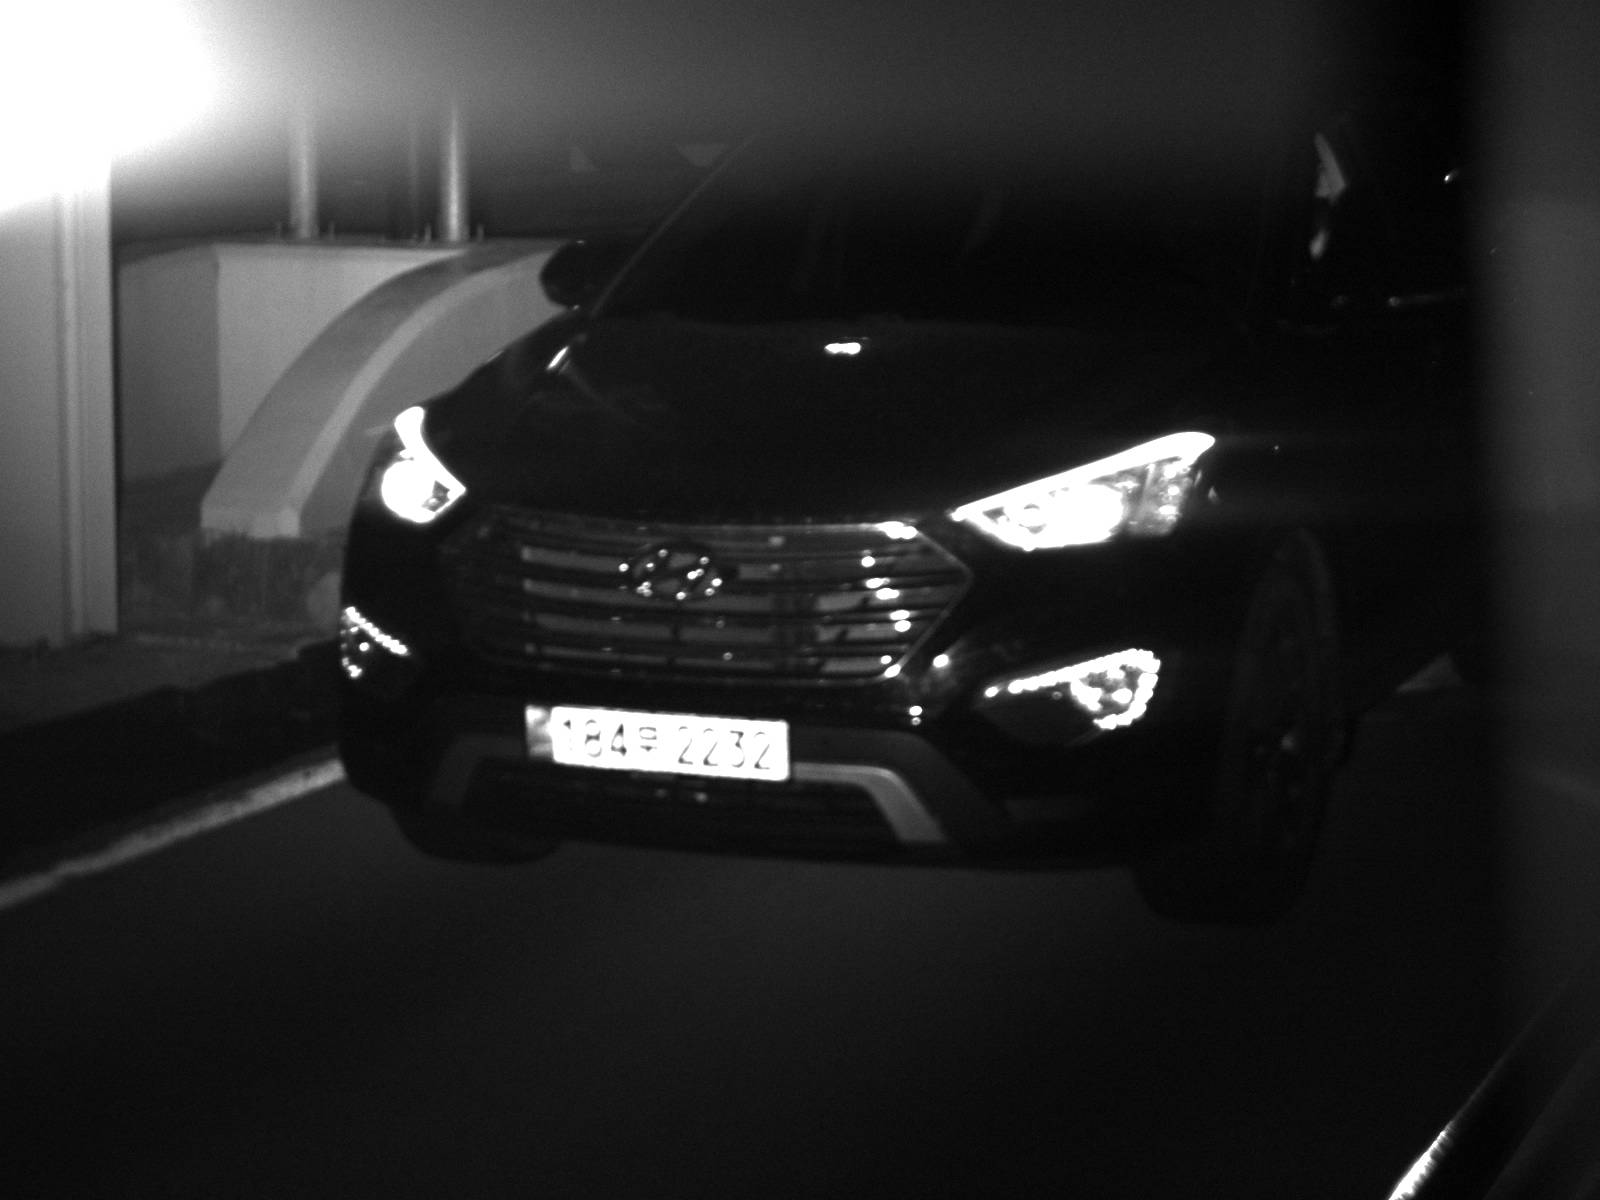car: (327, 108, 1509, 933)
plate: (522, 700, 794, 782)
